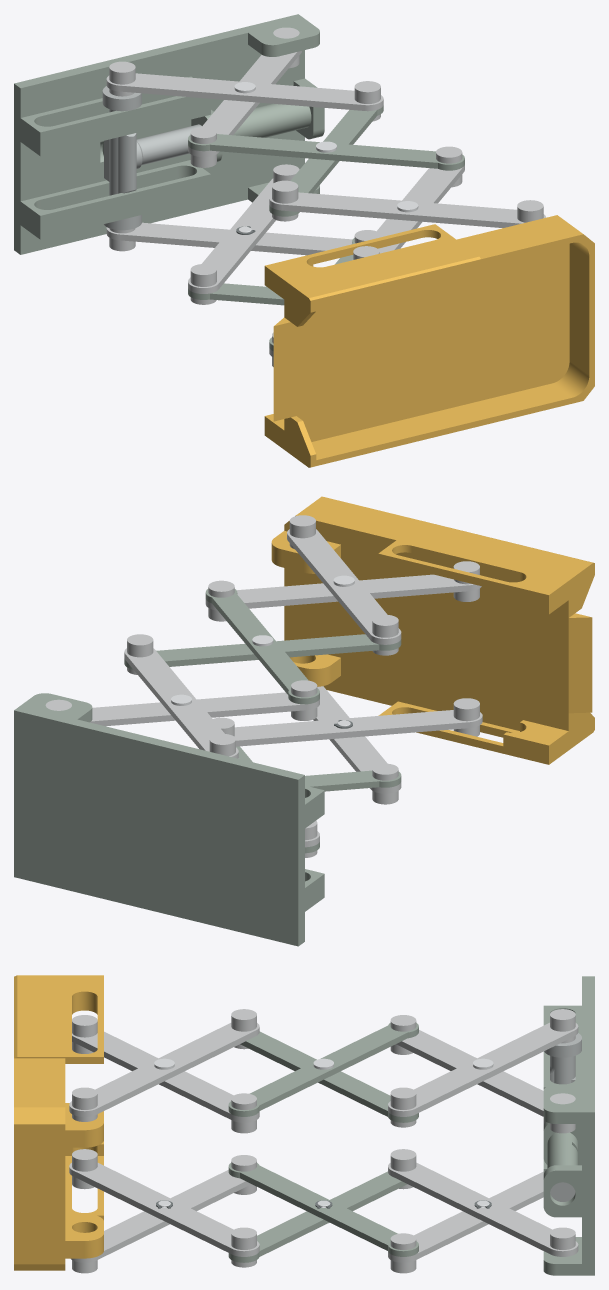
Rendered from scissor-cad.glb.
The picture shows the model from 3 angles, top to bottom: view 1: azimuth 30°, elevation 25°; view 2: azimuth 150°, elevation 25°; view 3: azimuth 270°, elevation 25°; orthographic projection. The views are drawn at different scales.
Visible parts, largest first — view 1: lift-4, lift-0, lift-6, lift-14, lift-1, lift-10, lift-7, lift-2, lift-5, lift-13, lift-9, lift-3; view 2: lift-0, lift-4, lift-11, lift-13, lift-14, lift-5, lift-6, lift-9, lift-10, lift-12, lift-8; view 3: lift-4, lift-0, lift-11, lift-6, lift-14, lift-2, lift-13, lift-5, lift-12, lift-8, lift-7, lift-10 (+3 smaller).
Boxes of the visible parts, x1=… form: lift-4: x1=264, y1=215, x2=594, y2=467; lift-0: x1=14, y1=14, x2=324, y2=254; lift-6: x1=106, y1=61, x2=383, y2=121; lift-14: x1=269, y1=180, x2=545, y2=227; lift-1: x1=102, y1=86, x2=201, y2=230; lift-10: x1=188, y1=134, x2=464, y2=170; lift-7: x1=106, y1=222, x2=375, y2=255; lift-2: x1=188, y1=164, x2=299, y2=304; lift-5: x1=188, y1=27, x2=301, y2=167; lift-13: x1=353, y1=146, x2=464, y2=259; lift-9: x1=269, y1=105, x2=383, y2=216; lift-3: x1=188, y1=283, x2=284, y2=305; lift-0: x1=14, y1=693, x2=324, y2=946; lift-4: x1=271, y1=496, x2=594, y2=764; lift-11: x1=213, y1=698, x2=482, y2=746; lift-13: x1=205, y1=561, x2=481, y2=621; lift-14: x1=287, y1=515, x2=401, y2=655; lift-5: x1=45, y1=680, x2=319, y2=726; lift-6: x1=124, y1=634, x2=238, y2=758; lift-9: x1=124, y1=634, x2=401, y2=669; lift-10: x1=205, y1=589, x2=319, y2=704; lift-12: x1=313, y1=686, x2=401, y2=804; lift-8: x1=305, y1=770, x2=401, y2=791; lift-4: x1=14, y1=975, x2=103, y2=1270; lift-0: x1=543, y1=976, x2=594, y2=1275; lift-11: x1=69, y1=1149, x2=259, y2=1267; lift-6: x1=388, y1=1009, x2=578, y2=1127; lift-14: x1=69, y1=1009, x2=259, y2=1121; lift-2: x1=388, y1=1149, x2=578, y2=1256; lift-13: x1=72, y1=1015, x2=259, y2=1133; lift-5: x1=390, y1=1015, x2=575, y2=1133; lift-12: x1=71, y1=1155, x2=256, y2=1273; lift-8: x1=228, y1=1163, x2=418, y2=1256; lift-7: x1=388, y1=1171, x2=543, y2=1273; lift-10: x1=228, y1=1023, x2=418, y2=1116.
Size of the model in its own units: 0.265 by 0.15 by 0.4514.
